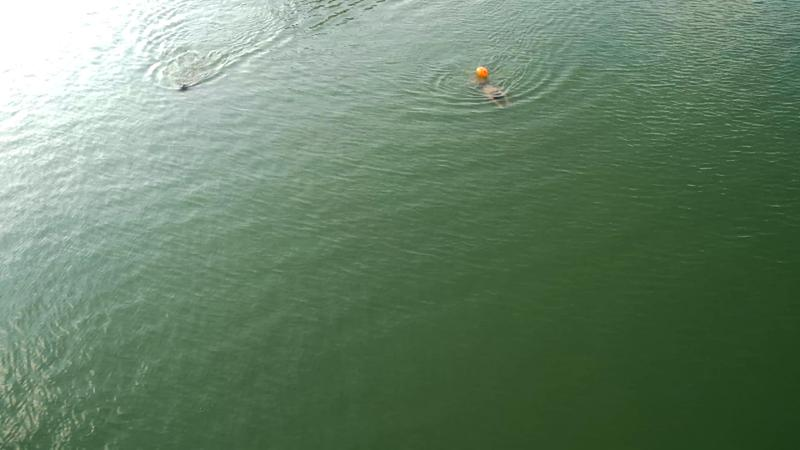swimmers: (466, 76, 510, 110)
